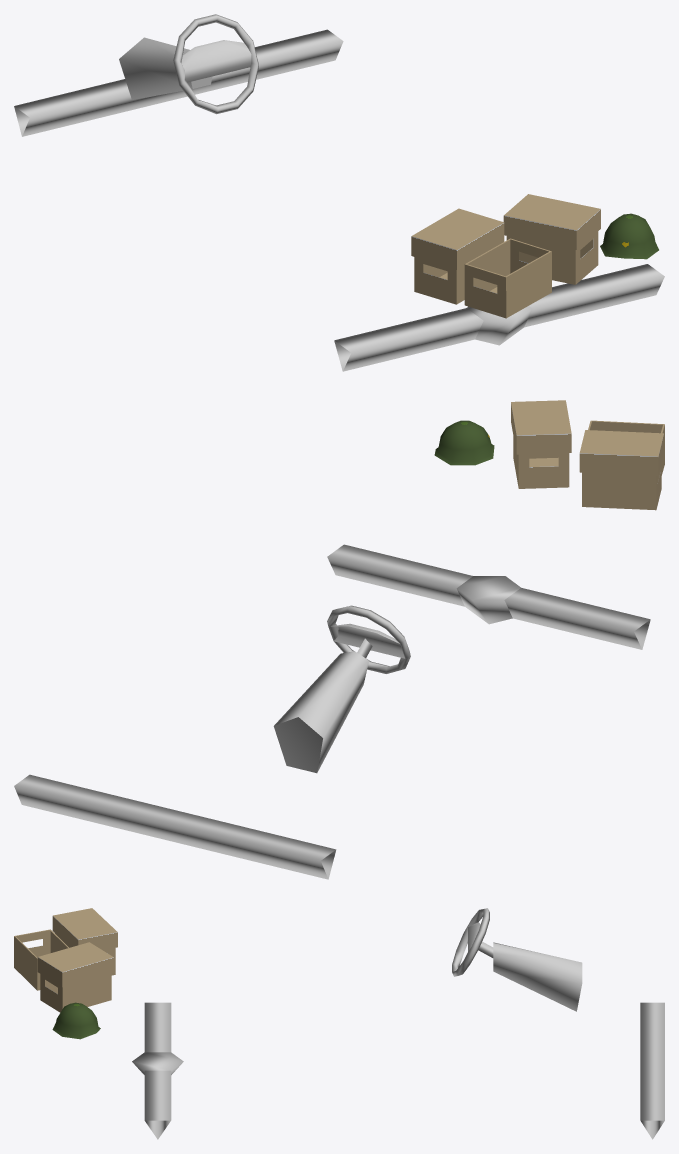
File: extraShape.fbx
3 renders of one model, top to bottom at view 1: azimuth 30°, elevation 25°; view 2: azimuth 150°, elevation 25°; view 3: azimuth 270°, elevation 25°, orthographic. The views are drawn at different scales.
Parts seen in each view (by area): view 1: extraShape; view 2: extraShape; view 3: extraShape.
Part boxes in pixels (<box>): extraShape: <box>14,14,664,371</box>; extraShape: <box>14,400,664,879</box>; extraShape: <box>14,908,664,1139</box>.
Bounding box in the file's own units: 177 × 103 × 411.
